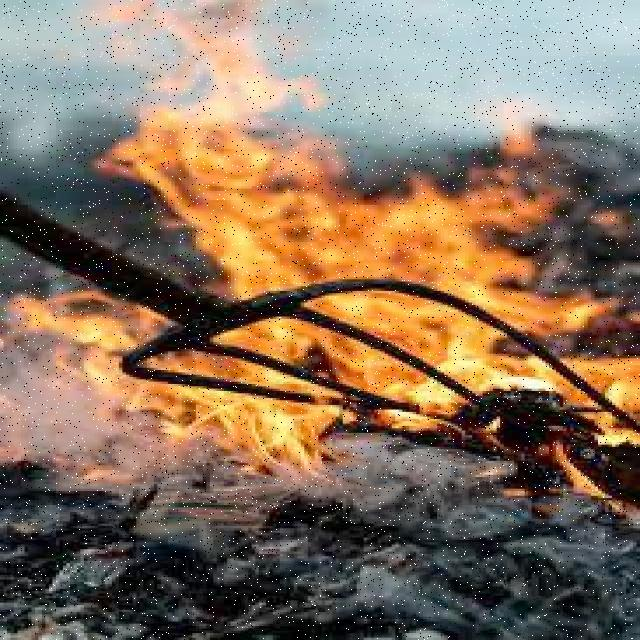fire: (122, 49, 628, 447)
